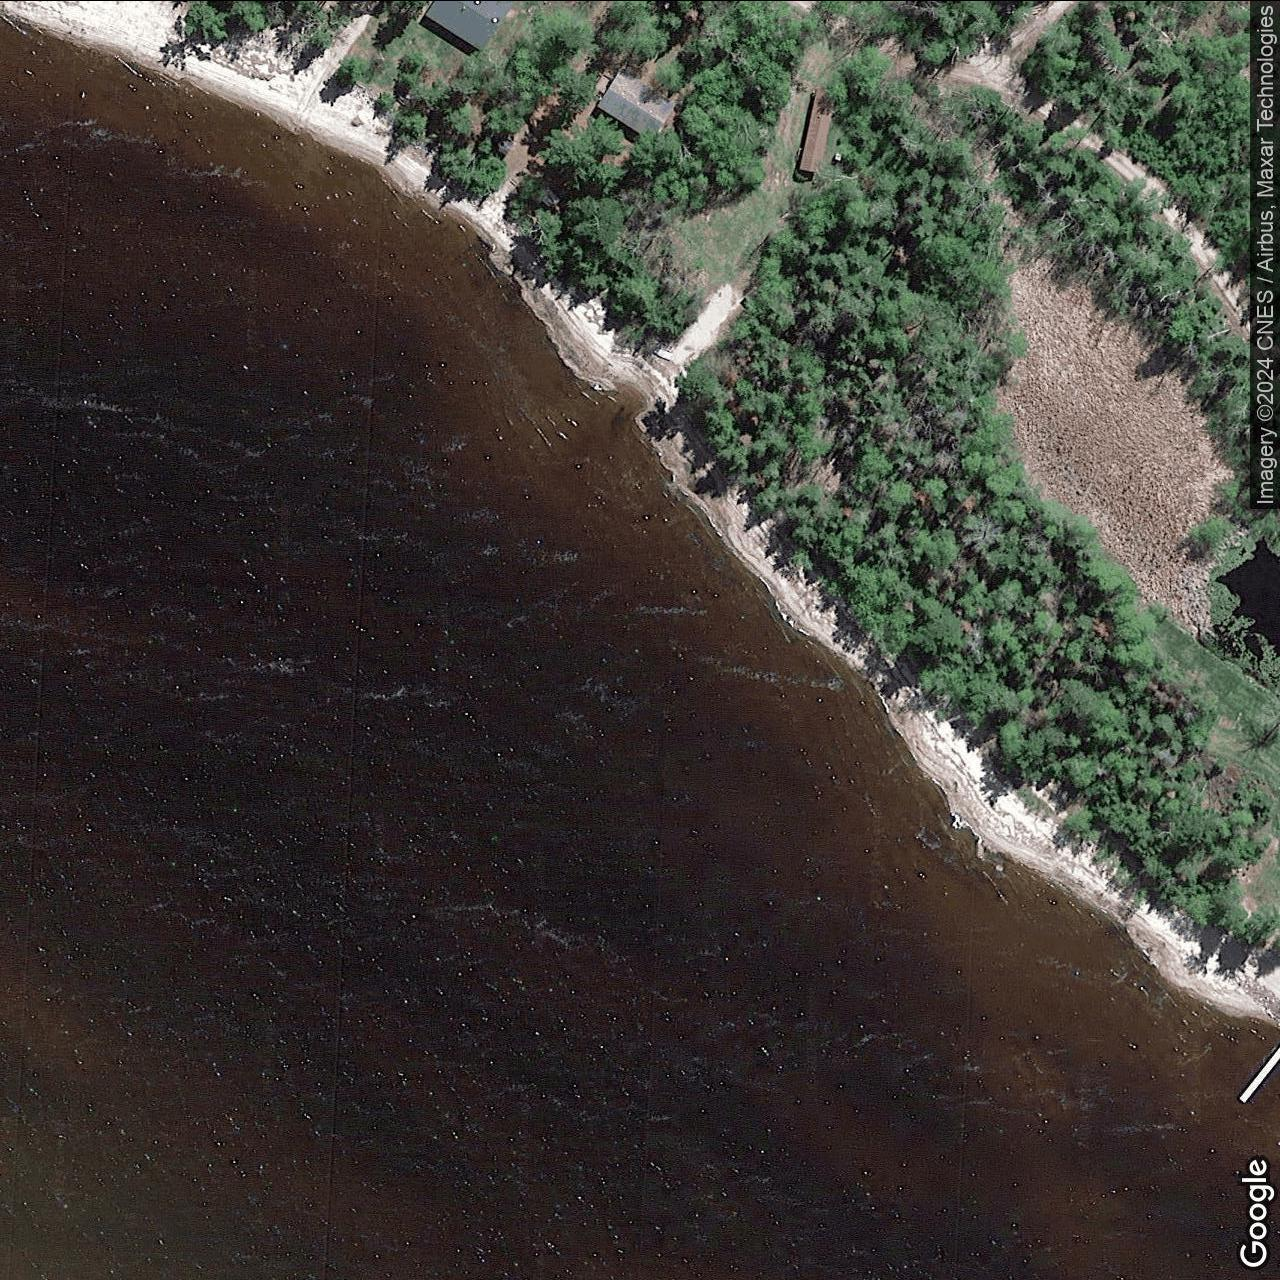Garage: (595, 68, 678, 142)
House: (424, 0, 518, 53)
Trailer: (797, 87, 835, 172)
